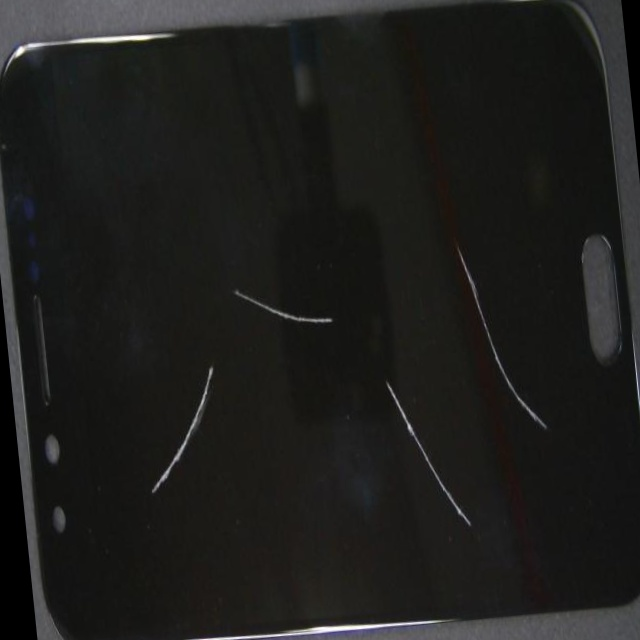scratch: (276, 303, 640, 640), (319, 290, 640, 596), (107, 187, 344, 579), (220, 155, 469, 473)
